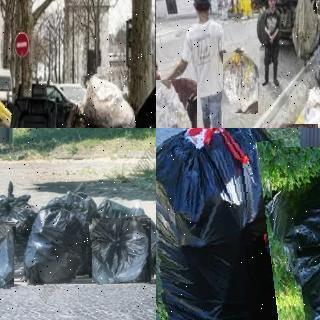Garbage: (156, 128, 301, 320), (259, 142, 320, 320), (21, 204, 87, 285), (90, 217, 153, 284), (0, 184, 41, 273), (82, 71, 134, 128), (222, 53, 259, 114), (156, 78, 199, 128), (0, 219, 15, 288)
